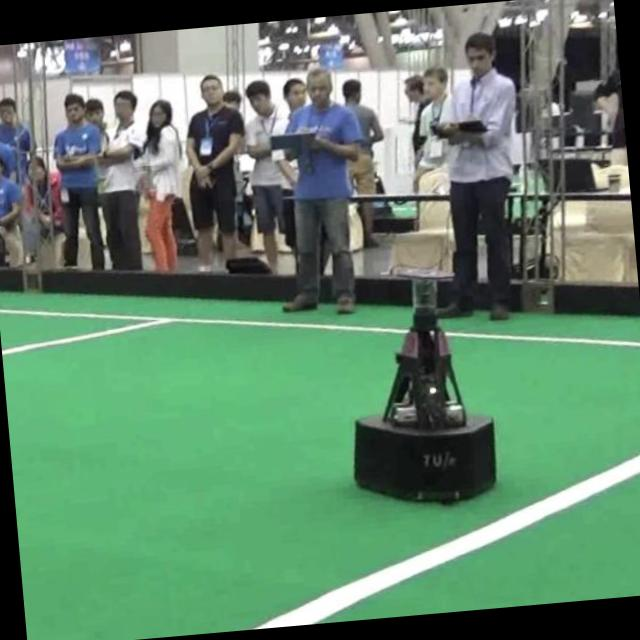robot: (355, 274, 494, 500)
